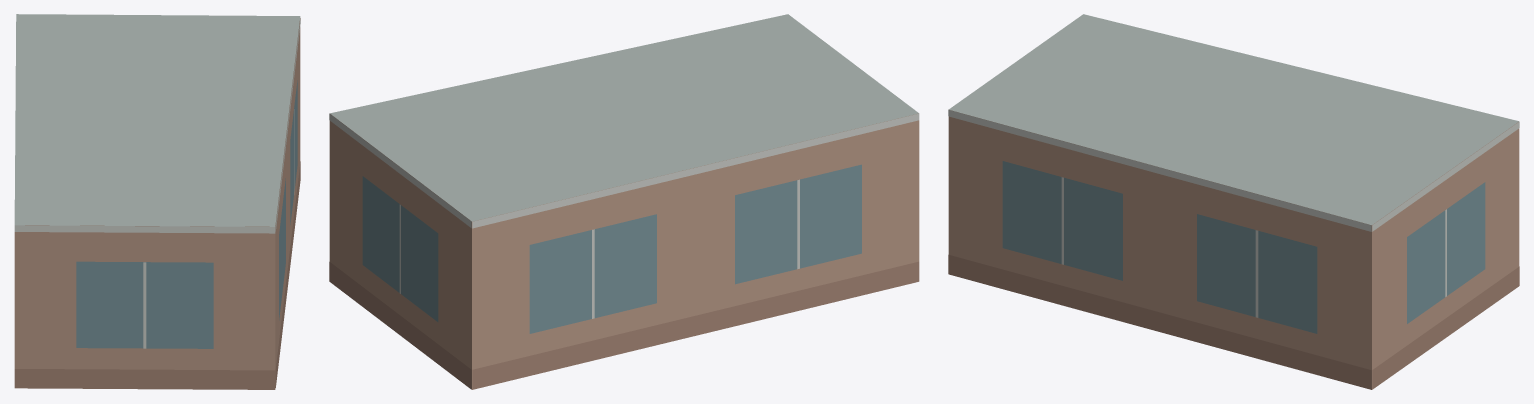
File: survey-upis-32828537.glb
The picture shows the model from 3 angles, left to right: view 1: azimuth 30°, elevation 25°; view 2: azimuth 150°, elevation 25°; view 3: azimuth 270°, elevation 25°; orthographic projection. The views are drawn at different scales.
Visible parts, largest first — view 1: survey-upis-32828537.tmp; view 2: survey-upis-32828537.tmp; view 3: survey-upis-32828537.tmp.
Part boxes in pixels (<box>): survey-upis-32828537.tmp: <box>14,14,300,389</box>; survey-upis-32828537.tmp: <box>329,14,919,389</box>; survey-upis-32828537.tmp: <box>948,14,1519,389</box>.
Size of the model in its own units: 8.4 by 3.05 by 9.6.
